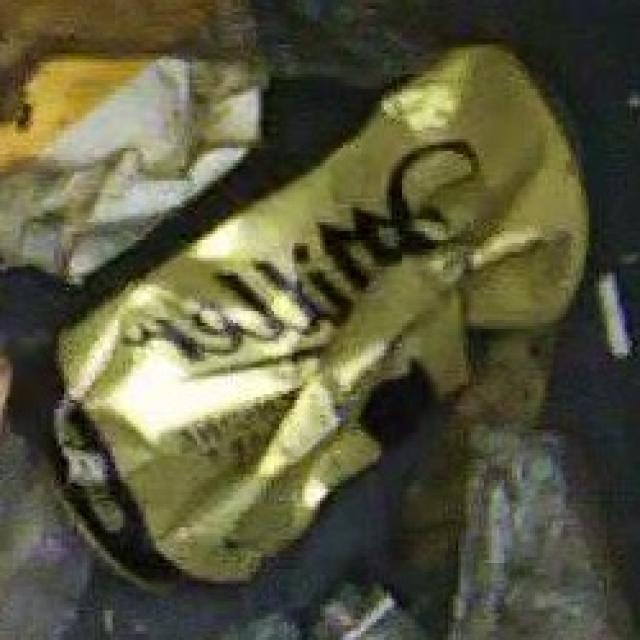can: (66, 137, 598, 529)
